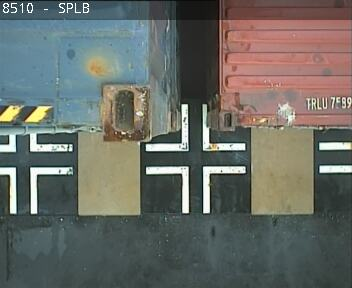groundmarker_1: (144, 165, 247, 214), (144, 103, 248, 151), (1, 166, 74, 213), (1, 130, 73, 153)
